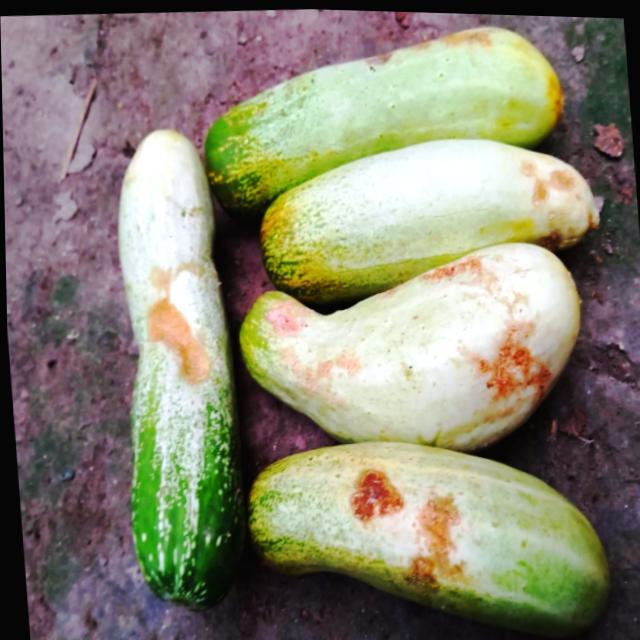Belly-Rot: (342, 457, 474, 600), (134, 237, 221, 393), (260, 298, 352, 421), (460, 316, 555, 409), (511, 145, 591, 248), (356, 21, 498, 71), (420, 251, 483, 290)
